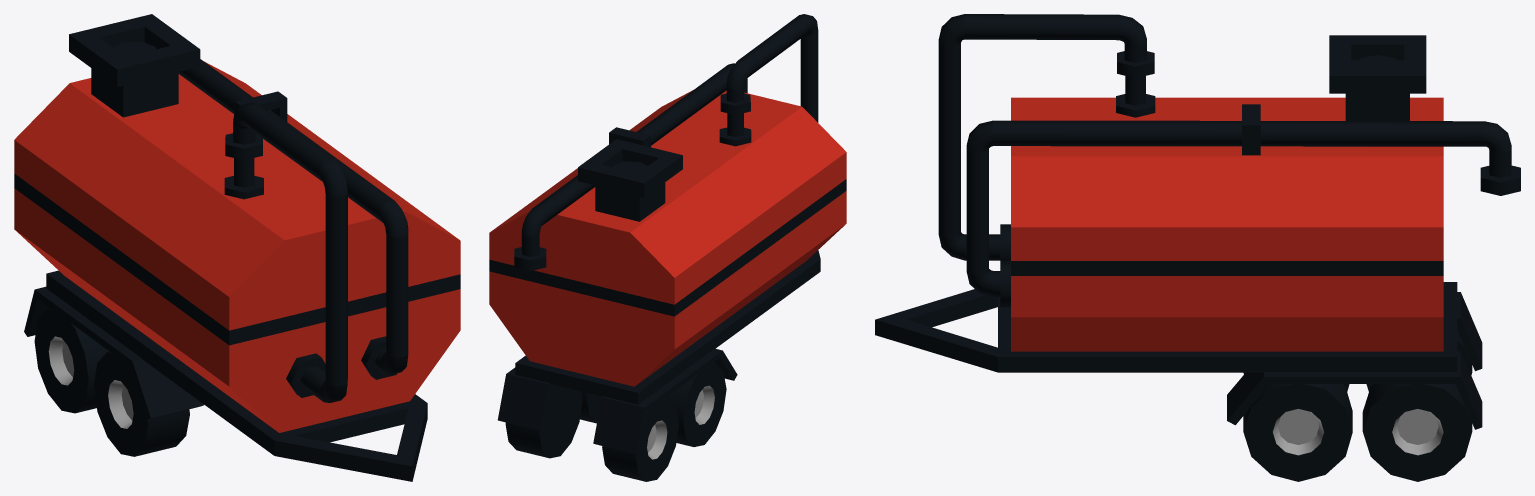
Rendered from Agricultural_Machine_3.fbx.
3 renders of one model, left to right at view 1: azimuth 30°, elevation 25°; view 2: azimuth 150°, elevation 25°; view 3: azimuth 270°, elevation 25°, orthographic. The views are drawn at different scales.
Visible parts, largest first — view 1: Agricultural_Machine_3; view 2: Agricultural_Machine_3; view 3: Agricultural_Machine_3.
Boxes of the visible parts, x1,y1,x2,y2 form: Agricultural_Machine_3: [14, 14, 460, 481]; Agricultural_Machine_3: [489, 14, 846, 481]; Agricultural_Machine_3: [875, 14, 1520, 481].
Bounding box in the file's own units: 80.04 × 133 × 192.
